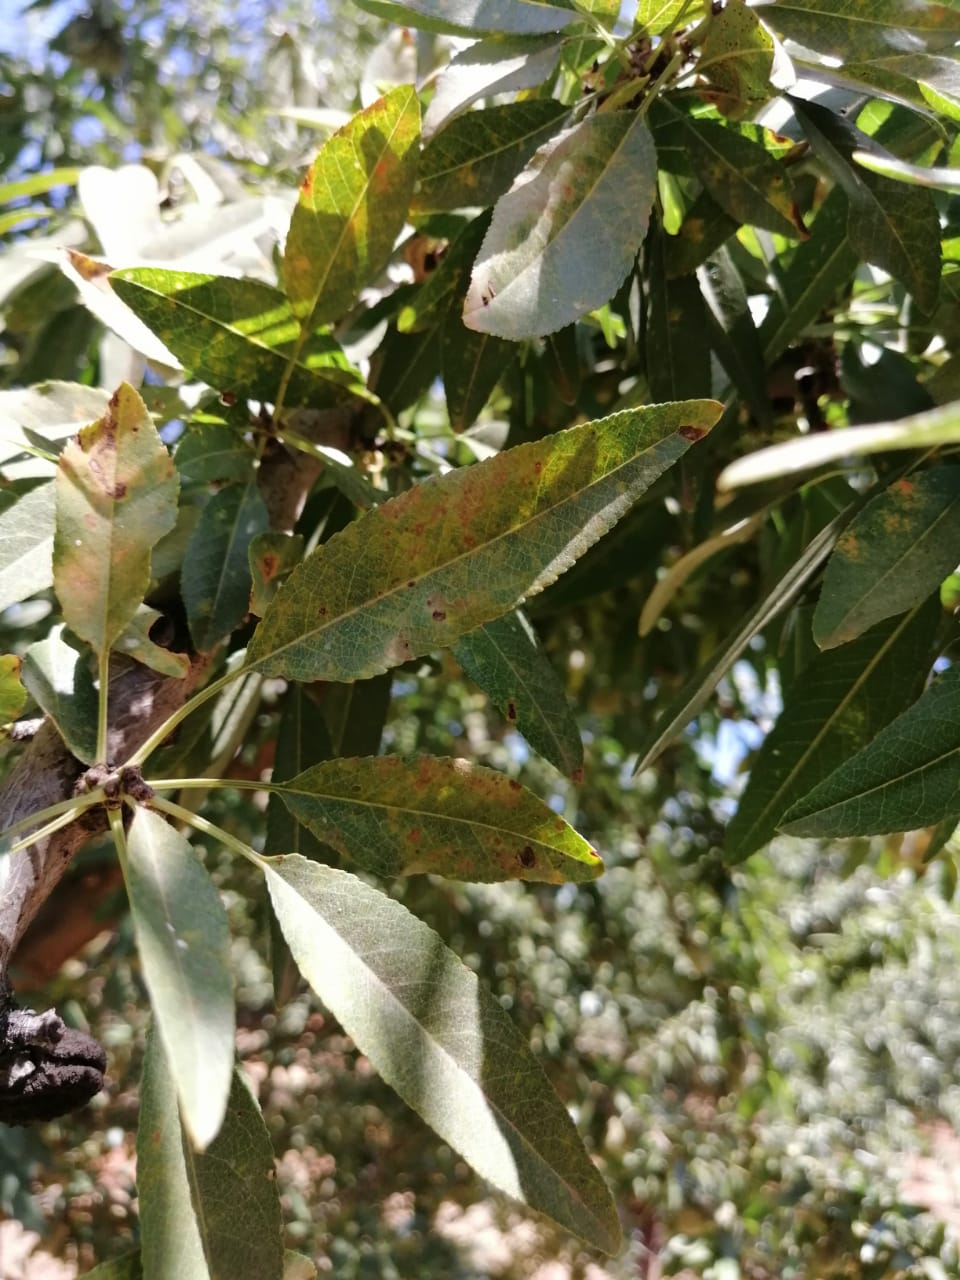rouille: (244, 396, 726, 680), (461, 103, 659, 344), (272, 749, 605, 888), (278, 79, 425, 330), (51, 381, 179, 652)
